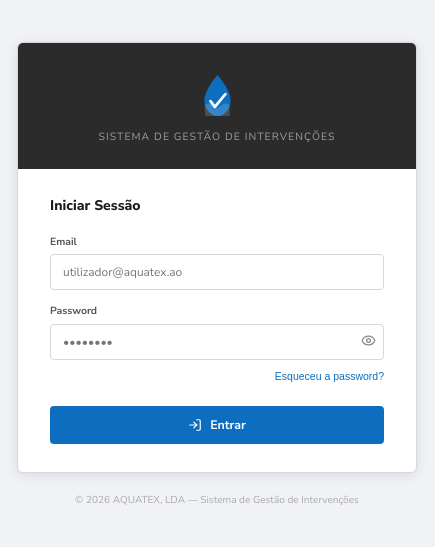
Test: LoginPage › mostra erro de credenciais invalidas quando a API retorna erro
Type "wrong@email.com" into the field with placeholder "utilizador@aquatex.ao" at (217, 272), box [50,254,384,290]
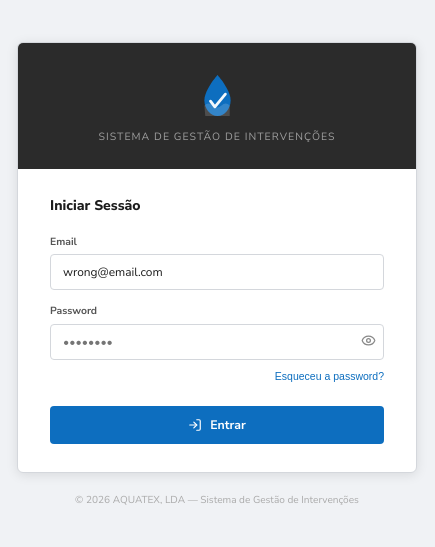
Type "wrongpass" into the password field with placeholder "••••••••" at (217, 342), box [50,324,384,360]
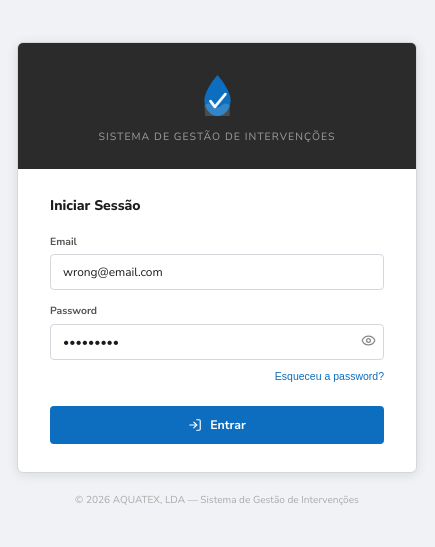
Click the button "Entrar" at (217, 425), box [50,406,384,444]
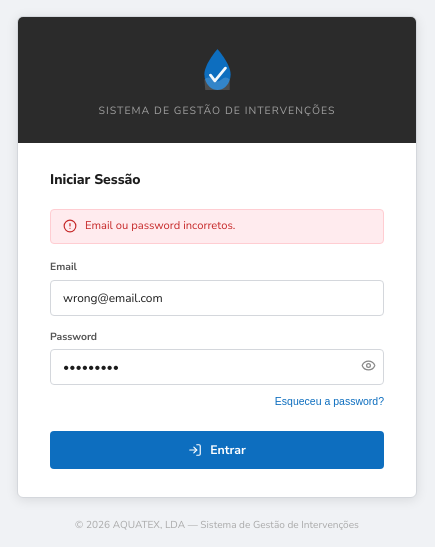
Result: the text "Email ou password incorretos." is shown at [85,218,235,235]
